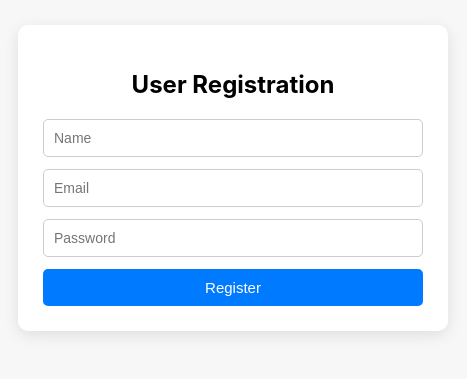
it: TC-01: shows error when required fields are missing
This screenshot has width=467, height=379.
Type "john@gmail.com" into the field with placeholder "Email". click: [233, 188]
box: [43,169,423,207]
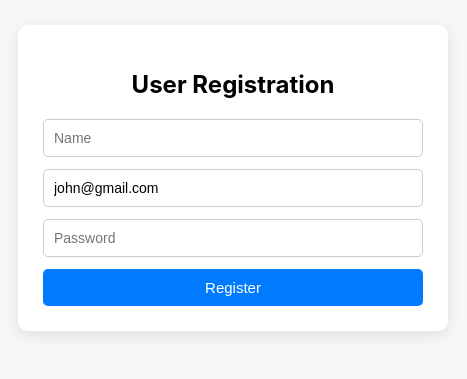
Click the button "Register". click: [233, 288]
box: [43,269,423,306]
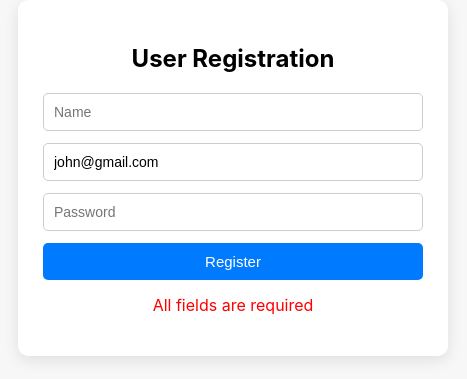
Result: the text "All fields are required" is shown at [153,296,313,316]
